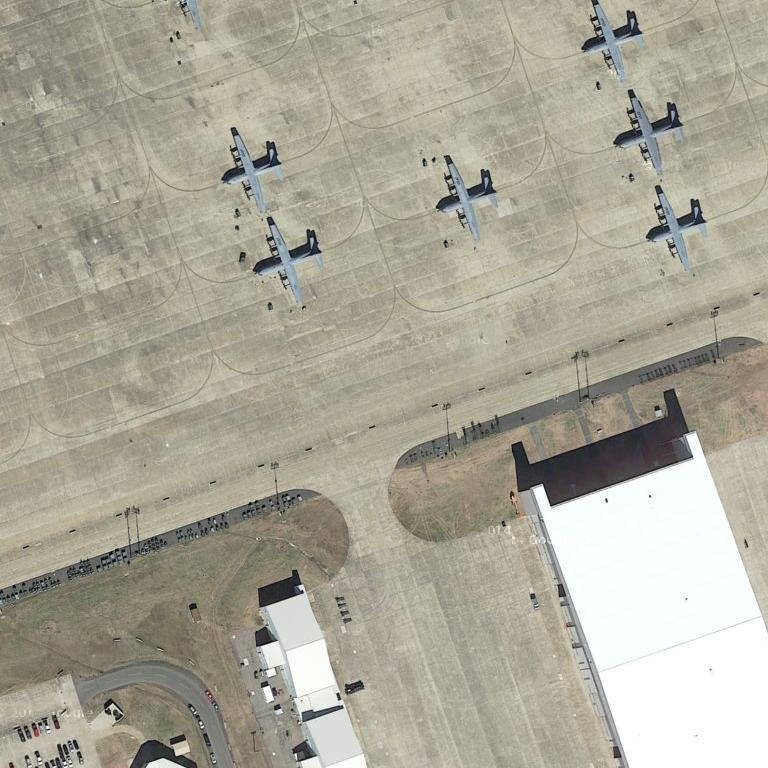C-130: (642, 182, 714, 276), (251, 221, 324, 308), (220, 126, 289, 211), (435, 154, 499, 244), (616, 90, 685, 172), (581, 5, 649, 83)
